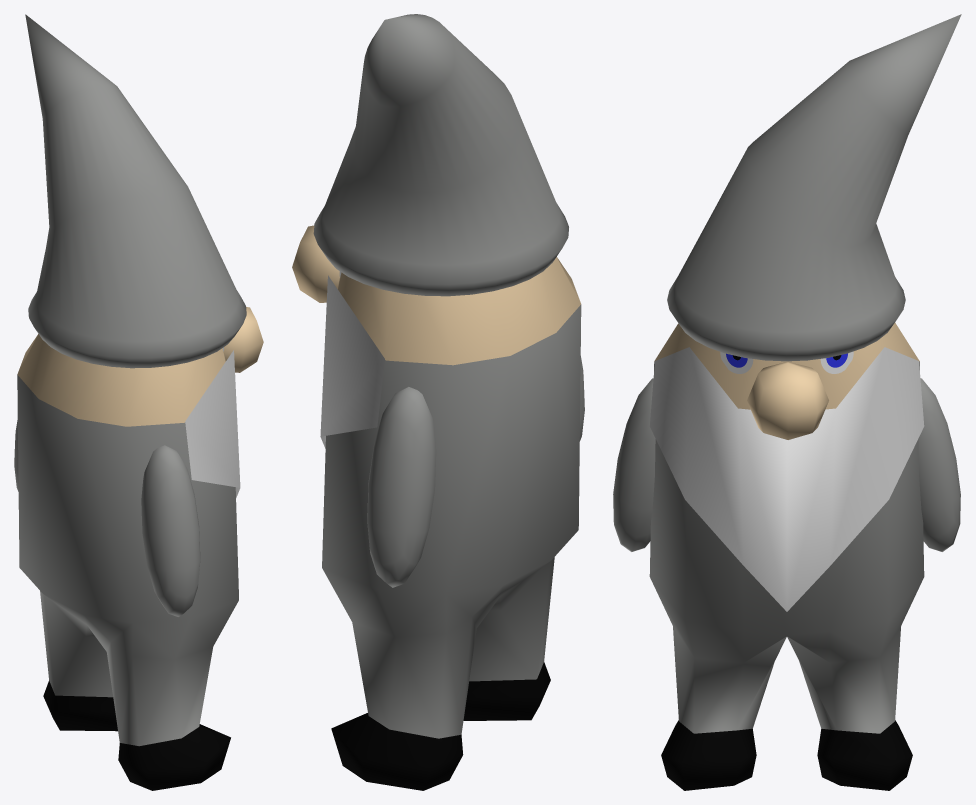
File: KvitNiseBein.gltf
3 renders of one model, left to right at view 1: azimuth 30°, elevation 25°; view 2: azimuth 150°, elevation 25°; view 3: azimuth 270°, elevation 25°, orthographic. The views are drawn at different scales.
Visible parts, largest first — view 1: Cube.027; view 2: Cube.027; view 3: Cube.027.
Boxes of the visible parts, x1=… form: Cube.027: x1=14, y1=14, x2=263, y2=790; Cube.027: x1=292, y1=14, x2=584, y2=790; Cube.027: x1=613, y1=14, x2=961, y2=790.
Size of the model in its own units: 5.68 by 16.73 by 7.12.
